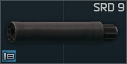SIG Sauer SRD9 9x19mm sound suppressor: (0, 0, 127, 64)
